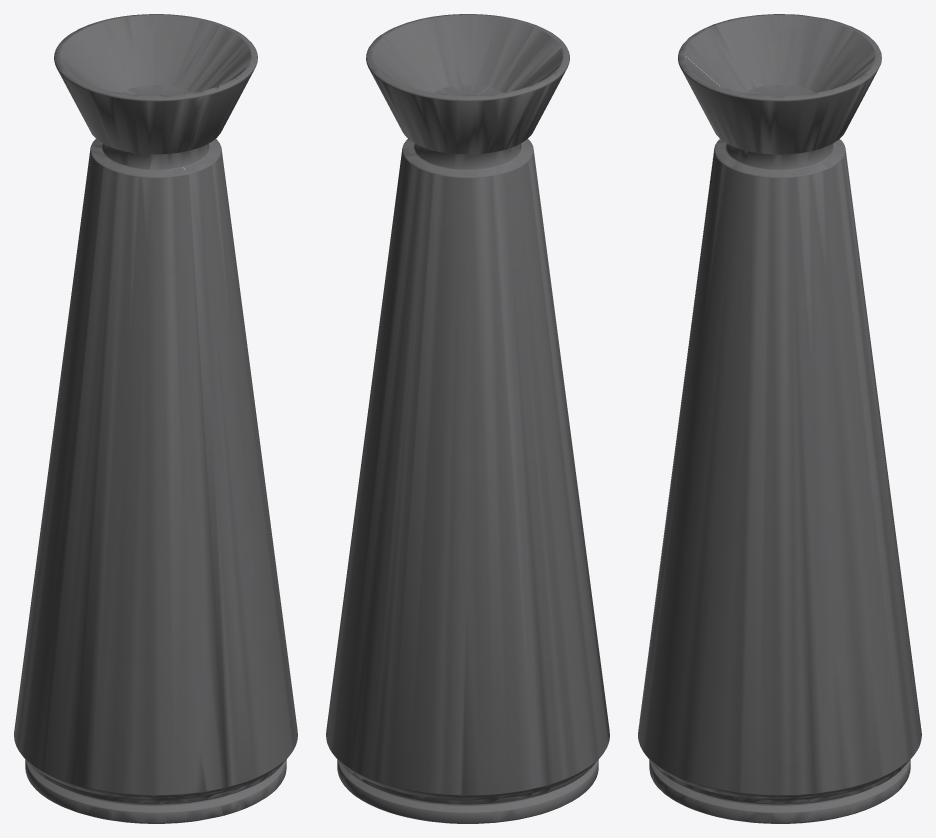
File: queen-black.glb
3 renders of one model, left to right at view 1: azimuth 30°, elevation 25°; view 2: azimuth 150°, elevation 25°; view 3: azimuth 270°, elevation 25°, orthographic.
Visible parts, largest first — view 1: 02_dama_cerna; view 2: 02_dama_cerna; view 3: 02_dama_cerna.
Boxes of the visible parts, <box> form: 02_dama_cerna: <box>14,14,297,823</box>; 02_dama_cerna: <box>326,14,609,823</box>; 02_dama_cerna: <box>638,14,921,823</box>.
Size of the model in its own units: 0.5836 by 1.62 by 0.5832.
Materials: 1 (1 with a texture image).
